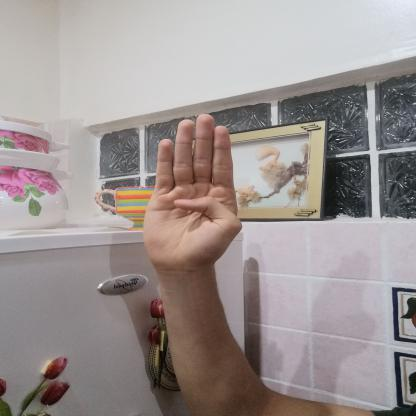KAAF: (133, 107, 255, 280)
